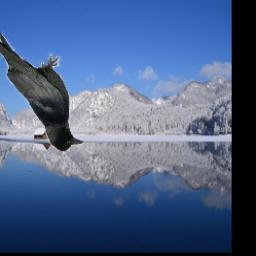Crow: (0, 29, 87, 151)
